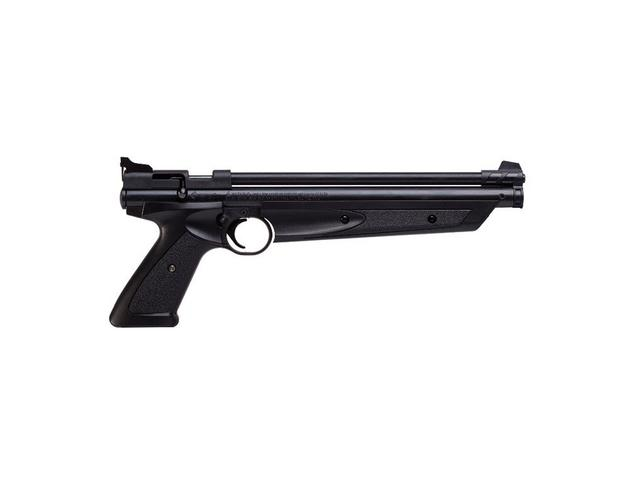pistol: (105, 156, 525, 341)
